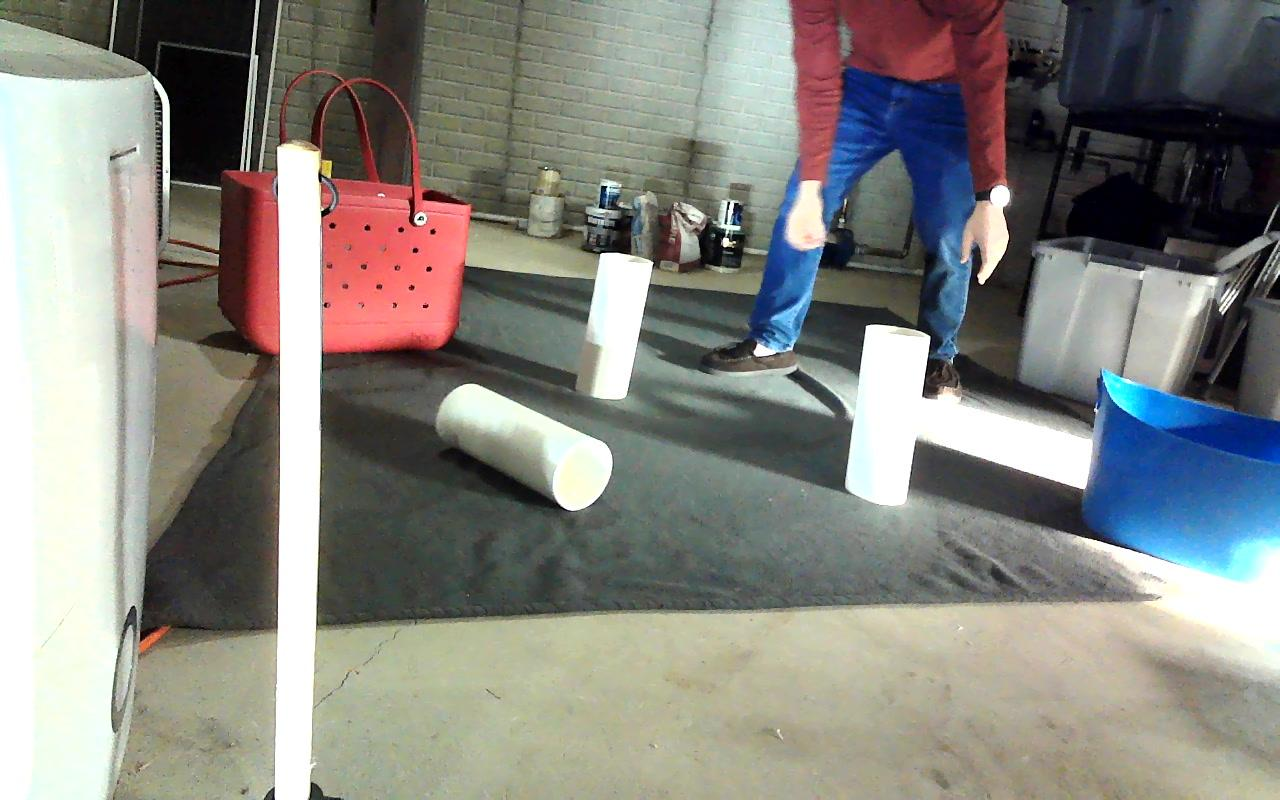coral: (437, 384, 612, 509), (846, 323, 927, 504), (587, 251, 650, 400)
